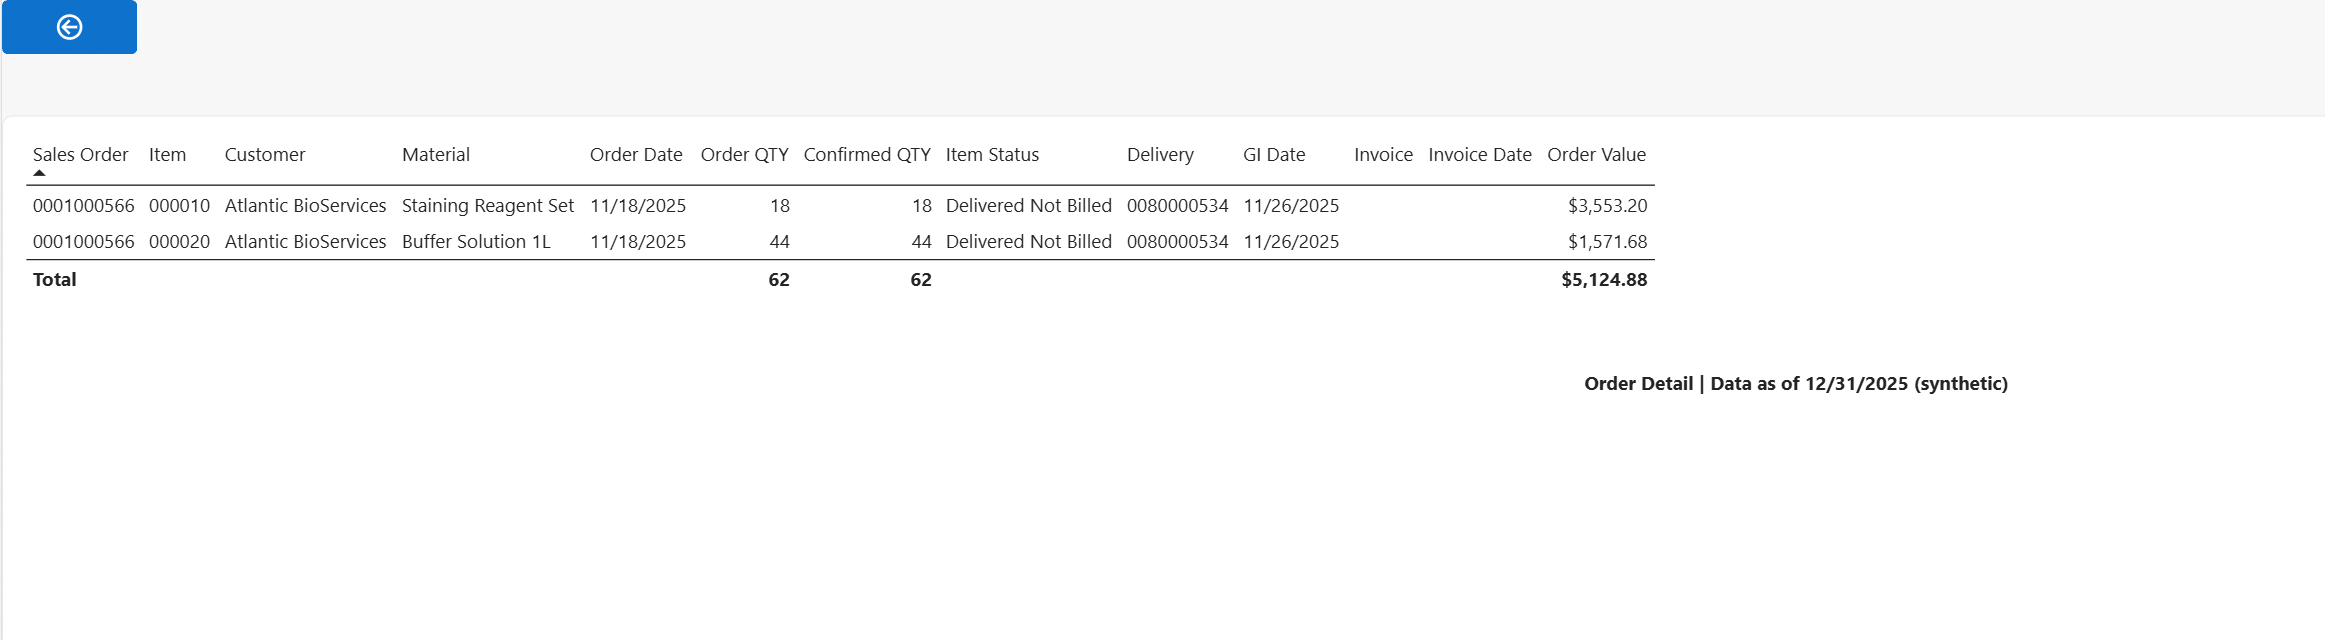

Layout of this report page (visuals, bound fields, positions):
{"tool":"powerbi","page":{"name":"Order Detail","canvas":[1920,1080],"ordinal":4},"visuals":[{"type":"actionButton","box":[0,0,100,40],"z":0},{"type":"tableEx","fields":{"Values":["FactItemFlow.SALES_ORDER","FactItemFlow.ITEM","DimCustomer.CUSTOMER_NAME","DimMaterial.MATERIAL_DESC","FactItemFlow.ORDER_DATE","Sum(FactItemFlow.ORDER_QTY)","Sum(FactItemFlow.CONFIRMED_QTY)","FactItemFlow.ITEM_STATUS","FactItemFlow.DELIVERY","FactItemFlow.GI_DATE","FactItemFlow.INVOICE","FactItemFlow.INVOICE_DATE"]},"box":[0,85.4,1919.6,994.8],"z":1000},{"type":"textbox","box":[1170,292.8,382.6,107.6],"z":1001},{"type":"textbox","box":[1170,272.8,382.6,127.5],"z":1002}]}

Visuals, with their boxes on the page's 1920x1080 design canvas (x1, y1, x2, y2). These are canvas units, not pixel positions in the 2325x640 screenshot, which may show the page scaled, cropped or inside an application window:
actionButton: bbox=[0, 0, 100, 40]
tableEx - FactItemFlow.SALES_ORDER x FactItemFlow.ITEM: bbox=[0, 85, 1920, 1080]
textbox: bbox=[1170, 293, 1553, 400]
textbox: bbox=[1170, 273, 1553, 400]
